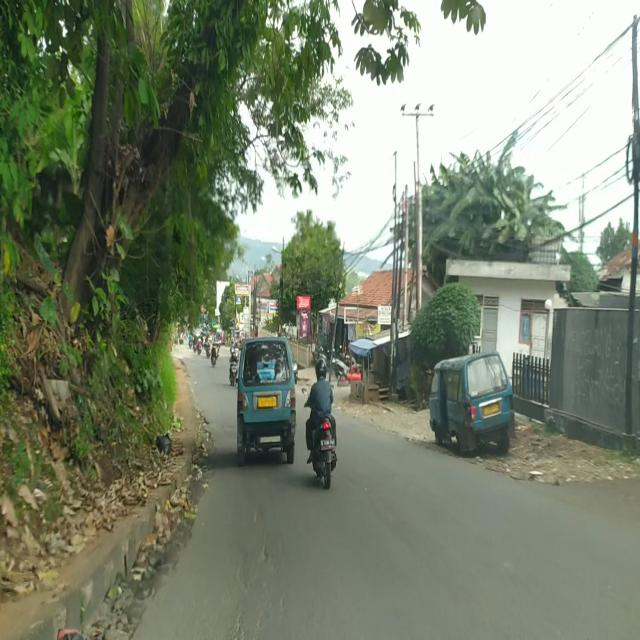Drain Hole: (227, 530, 284, 640)
